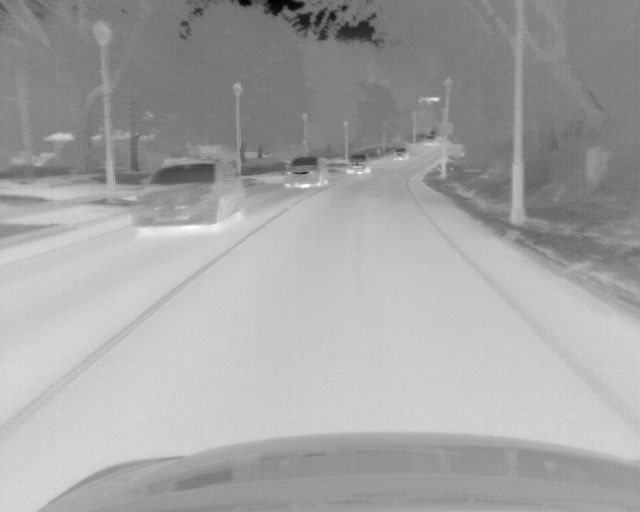car: (131, 157, 245, 228), (283, 157, 329, 187), (345, 153, 371, 174), (391, 147, 408, 161), (421, 136, 436, 145)
